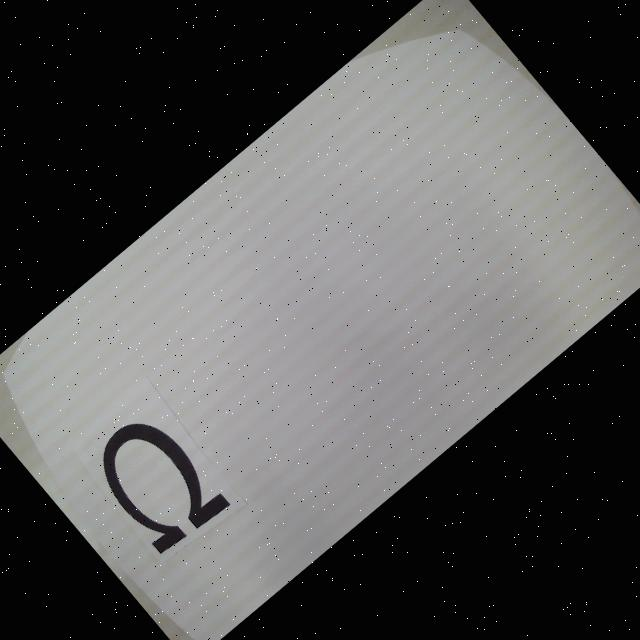OMEGA: (82, 404, 232, 560)
